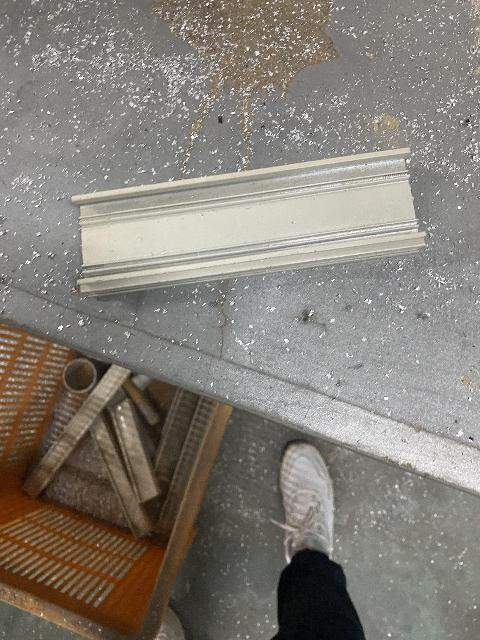Metal: (73, 146, 426, 298), (27, 360, 164, 545)
